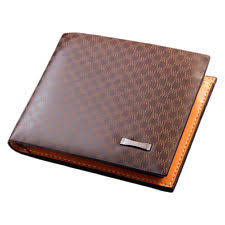monedero: (7, 32, 217, 193)
